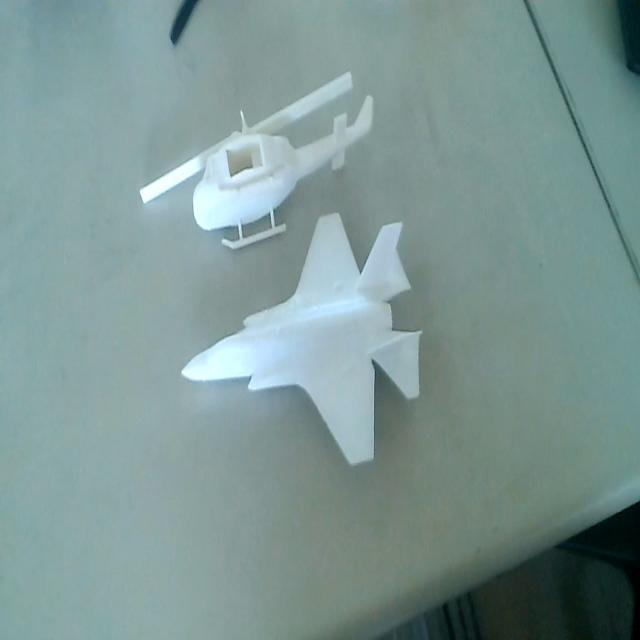Helicopter: (139, 68, 377, 253)
Jet: (182, 207, 428, 474)
